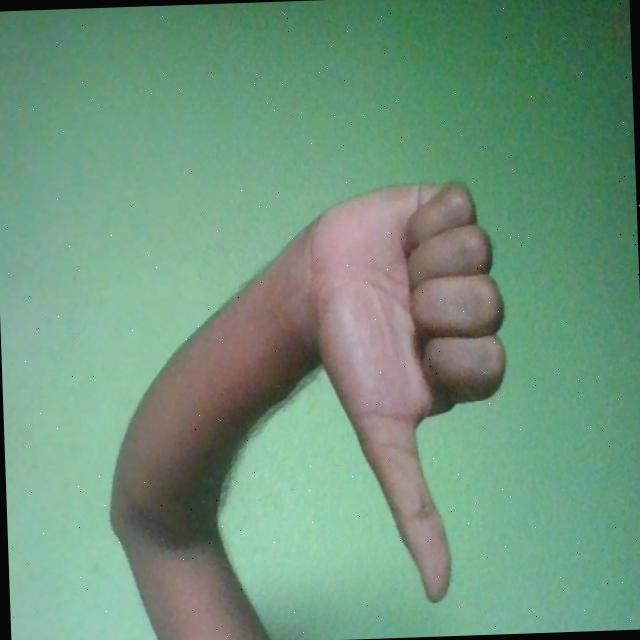Dislike: (301, 180, 513, 606)
